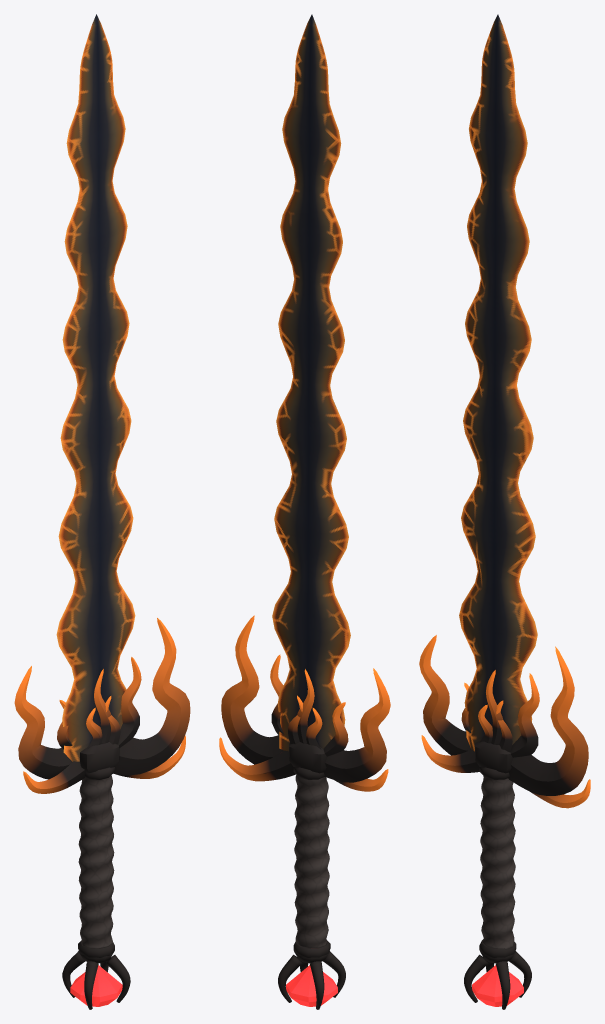
Rendered from named-flame-tongue.glb.
3 renders of one model, left to right at view 1: azimuth 30°, elevation 25°; view 2: azimuth 150°, elevation 25°; view 3: azimuth 330°, elevation 25°, orthographic.
Parts seen in each view (by area): view 1: named-flame-tongue; view 2: named-flame-tongue; view 3: named-flame-tongue.
Part boxes in pixels (bbox=[...]): named-flame-tongue: bbox=[14, 14, 190, 1009]; named-flame-tongue: bbox=[219, 14, 390, 1009]; named-flame-tongue: bbox=[419, 14, 590, 1009].
Bounding box in the file's own units: 0.44 × 2.4 × 0.1148.
Materials: 1 (1 with a texture image).
